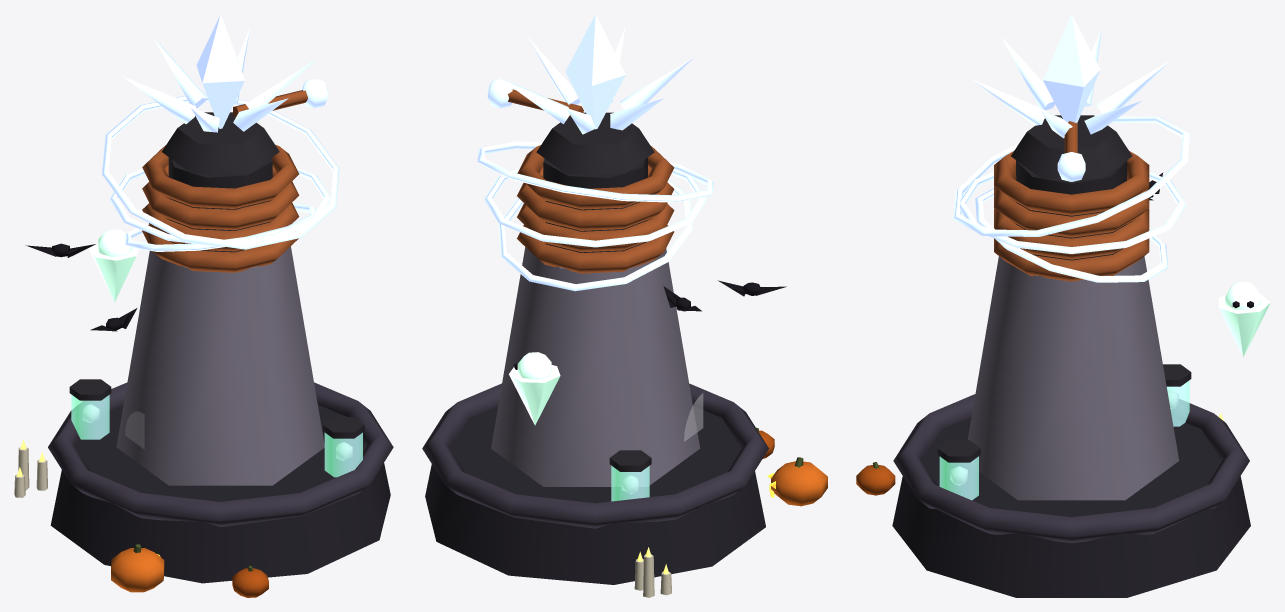
The model's file is tower_chain_storm.glb.
3 views of the same model, side by side, from view 1: azimuth 30°, elevation 25°; view 2: azimuth 150°, elevation 25°; view 3: azimuth 270°, elevation 25° (orthographic). The views are drawn at different scales.
Visible parts, largest first — view 1: shaft, base, base_rim, cap, antenna_ring_2, coil_3, coil_2, crystal_core, coil_0, coil_core, deco_hw_jack_body, antenna_ring_1 (+17 smaller); view 2: shaft, base, base_rim, cap, crystal_core, coil_2, coil_0, coil_3, antenna_ring_2, coil_1, antenna_ring_1, antenna_ring_0 (+13 smaller); view 3: shaft, base, base_rim, cap, coil_3, crystal_core, antenna_ring_2, coil_2, coil_0, antenna_ring_1, coil_1, coil_core (+12 smaller).
Boxes of the visible parts, x1=… form: shaft: x1=116, y1=241, x2=324, y2=485; base: x1=50, y1=404, x2=390, y2=583; base_rim: x1=48, y1=382, x2=393, y2=526; cap: x1=162, y1=112, x2=279, y2=173; antenna_ring_2: x1=102, y1=94, x2=339, y2=249; coil_3: x1=142, y1=145, x2=299, y2=208; coil_2: x1=142, y1=165, x2=299, y2=230; crystal_core: x1=196, y1=14, x2=244, y2=128; coil_0: x1=142, y1=224, x2=298, y2=272; coil_core: x1=168, y1=157, x2=272, y2=252; deco_hw_jack_body: x1=111, y1=548, x2=164, y2=592; antenna_ring_1: x1=109, y1=167, x2=330, y2=246; shaft: x1=491, y1=241, x2=700, y2=486; base: x1=425, y1=406, x2=765, y2=584; base_rim: x1=422, y1=383, x2=768, y2=528; cap: x1=536, y1=112, x2=654, y2=173; crystal_core: x1=565, y1=14, x2=625, y2=129; coil_2: x1=517, y1=165, x2=674, y2=230; coil_0: x1=517, y1=224, x2=674, y2=273; coil_3: x1=517, y1=145, x2=674, y2=209; antenna_ring_2: x1=477, y1=141, x2=713, y2=202; coil_1: x1=517, y1=203, x2=674, y2=252; antenna_ring_1: x1=484, y1=167, x2=706, y2=247; antenna_ring_0: x1=498, y1=179, x2=692, y2=291; shaft: x1=967, y1=256, x2=1179, y2=500; base: x1=892, y1=417, x2=1250, y2=597; base_rim: x1=893, y1=394, x2=1249, y2=543; cap: x1=1011, y1=115, x2=1132, y2=178; coil_3: x1=994, y1=151, x2=1149, y2=215; crystal_core: x1=1043, y1=14, x2=1100, y2=122; antenna_ring_2: x1=953, y1=116, x2=1189, y2=236; coil_2: x1=994, y1=187, x2=1149, y2=237; coil_0: x1=994, y1=231, x2=1149, y2=281; antenna_ring_1: x1=960, y1=171, x2=1186, y2=253; coil_1: x1=994, y1=209, x2=1149, y2=259; coil_core: x1=1016, y1=160, x2=1127, y2=260.
Bounding box in the file's own units: 0.4215 × 0.63 × 0.4624.
